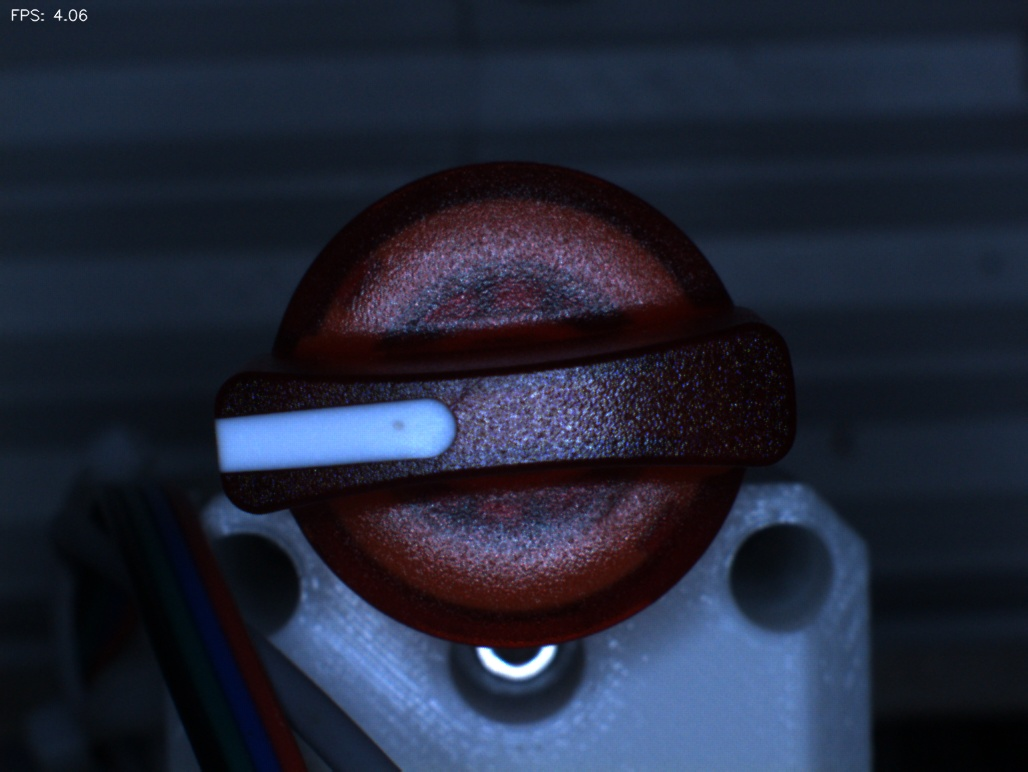PointNoir: (356, 389, 443, 459)
